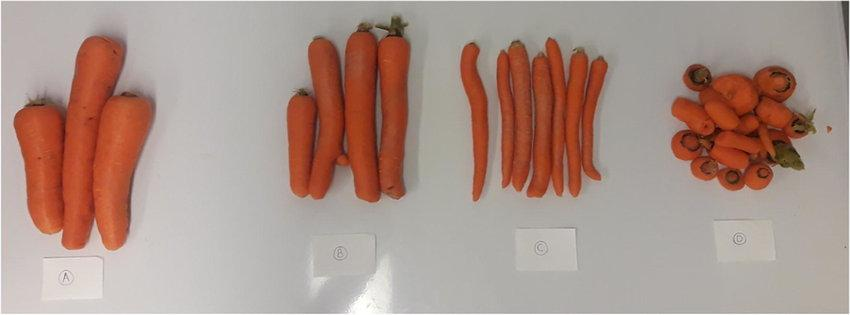organic: (287, 18, 409, 201), (62, 36, 124, 248), (93, 94, 153, 249), (14, 104, 63, 232), (344, 30, 380, 201), (308, 37, 343, 198), (378, 32, 409, 198), (497, 41, 531, 190), (460, 43, 488, 200), (527, 52, 552, 196), (565, 49, 587, 195), (545, 38, 565, 195), (582, 57, 607, 178), (287, 90, 315, 195), (497, 50, 514, 186), (711, 74, 758, 114), (672, 98, 714, 134), (754, 66, 796, 101), (712, 131, 765, 157), (756, 98, 790, 128), (773, 141, 803, 169), (744, 162, 772, 189), (683, 64, 711, 90), (672, 131, 698, 159), (691, 157, 718, 179), (791, 112, 815, 136)
